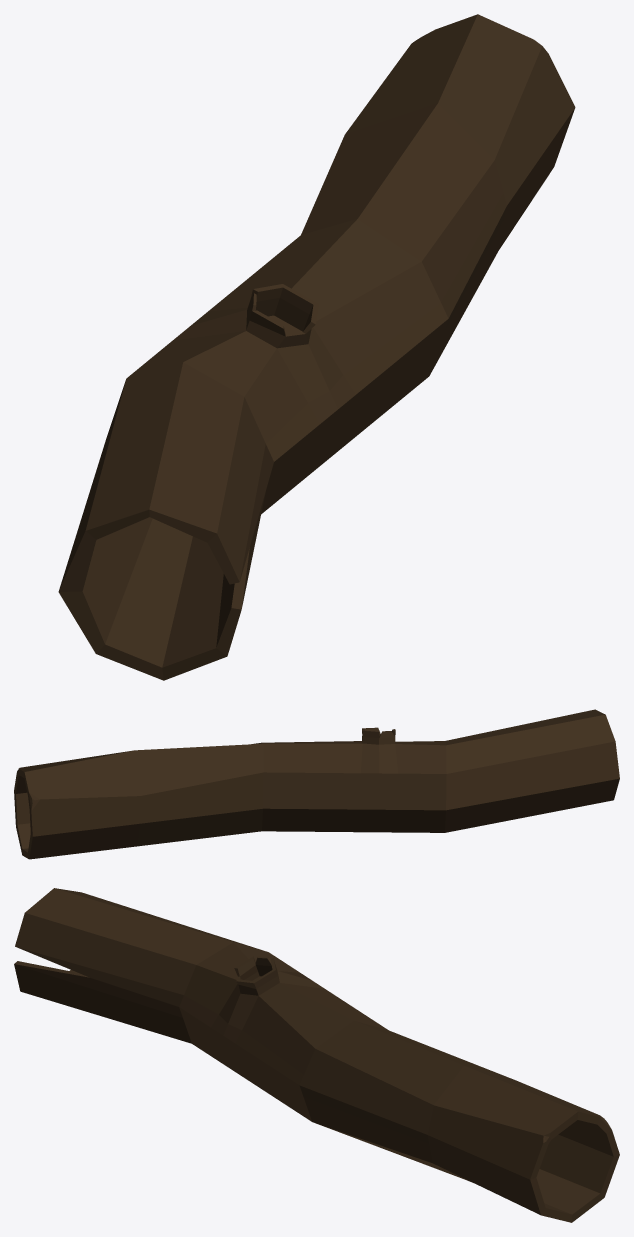
File: wood.fbx
3 views of the same model, one above another, from view 1: azimuth 30°, elevation 25°; view 2: azimuth 150°, elevation 25°; view 3: azimuth 270°, elevation 25° (orthographic). The views are drawn at different scales.
Visible parts, largest first — view 1: Circle20; view 2: Circle20; view 3: Circle20.
Boxes of the visible parts, left/top/right/bottom form: Circle20: left=58, top=14, right=575, bottom=680; Circle20: left=14, top=709, right=619, bottom=859; Circle20: left=14, top=888, right=619, bottom=1222.
Bounding box in the file's own units: 15.52 × 3.39 × 14.99.
